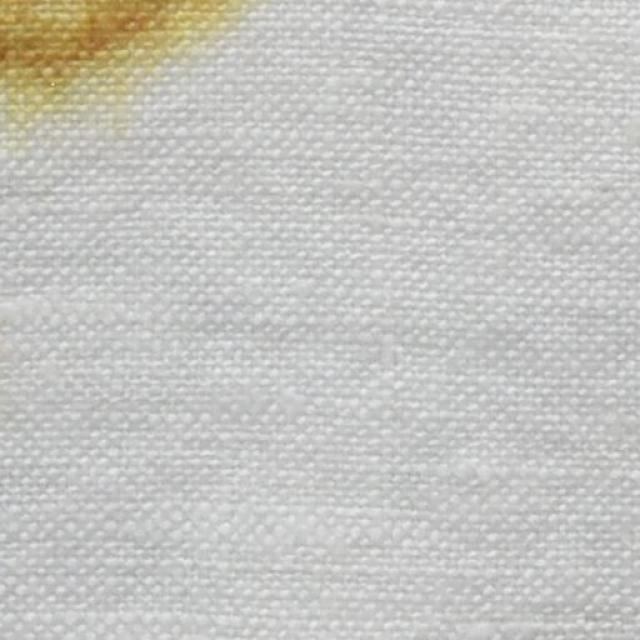Stain: (0, 0, 248, 145)
